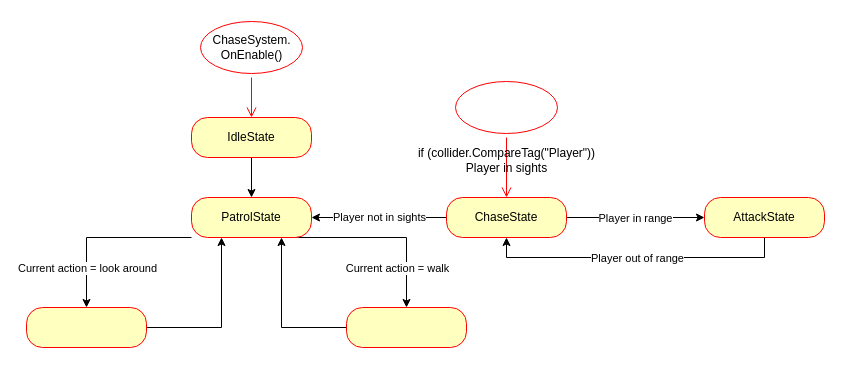
The diagram is 842 pixels wide and 365 high, and some of its shapes have lost their labels. The box of each missing label's shape, as (x1, y1, x2, y2) in pixels:
DetectorAura. OnTriggerEnter: (450, 76, 562, 138)
LookAroundState: (26, 306, 146, 348)
WalkState: (346, 306, 466, 348)
